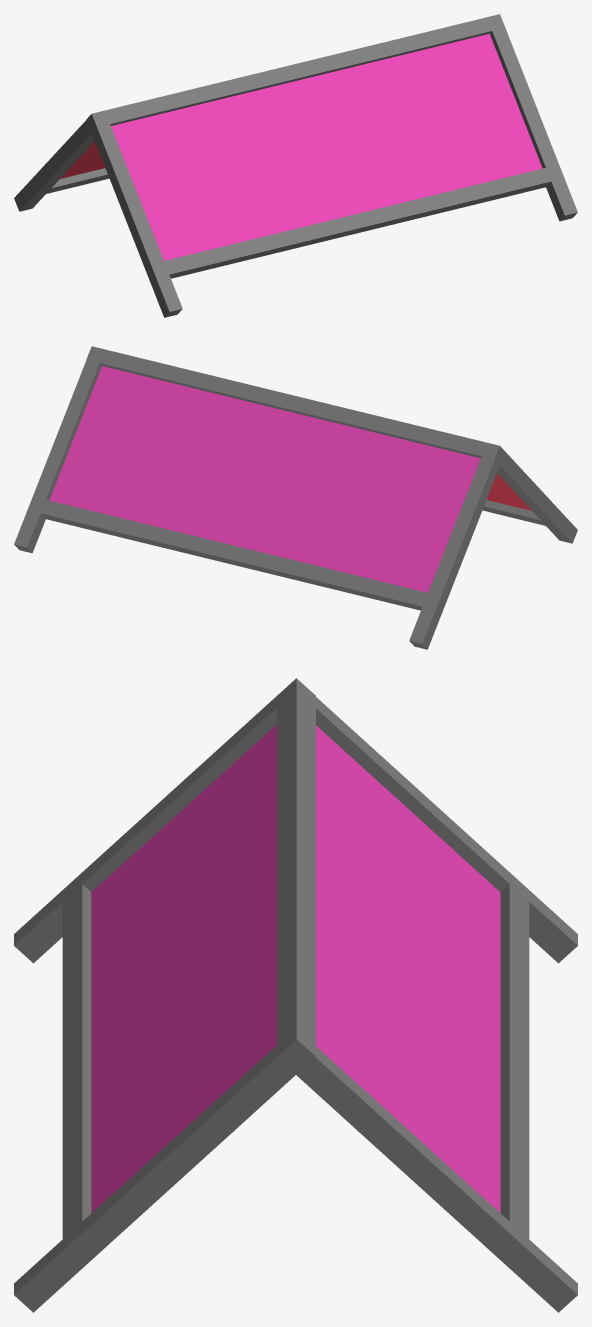
File: AdvertisementTilted.dae
The picture shows the model from 3 angles, top to bottom: view 1: azimuth 30°, elevation 25°; view 2: azimuth 150°, elevation 25°; view 3: azimuth 270°, elevation 25°; orthographic projection. The views are drawn at different scales.
Visible parts, largest first — view 1: Plane; view 2: Plane; view 3: Plane.
Part boxes in pixels (x1,y1,x2,y2): Plane: (14, 14, 577, 317); Plane: (14, 346, 577, 649); Plane: (14, 678, 577, 1312).
Size of the model in its own units: 6.2 by 4.09 by 2.19.
